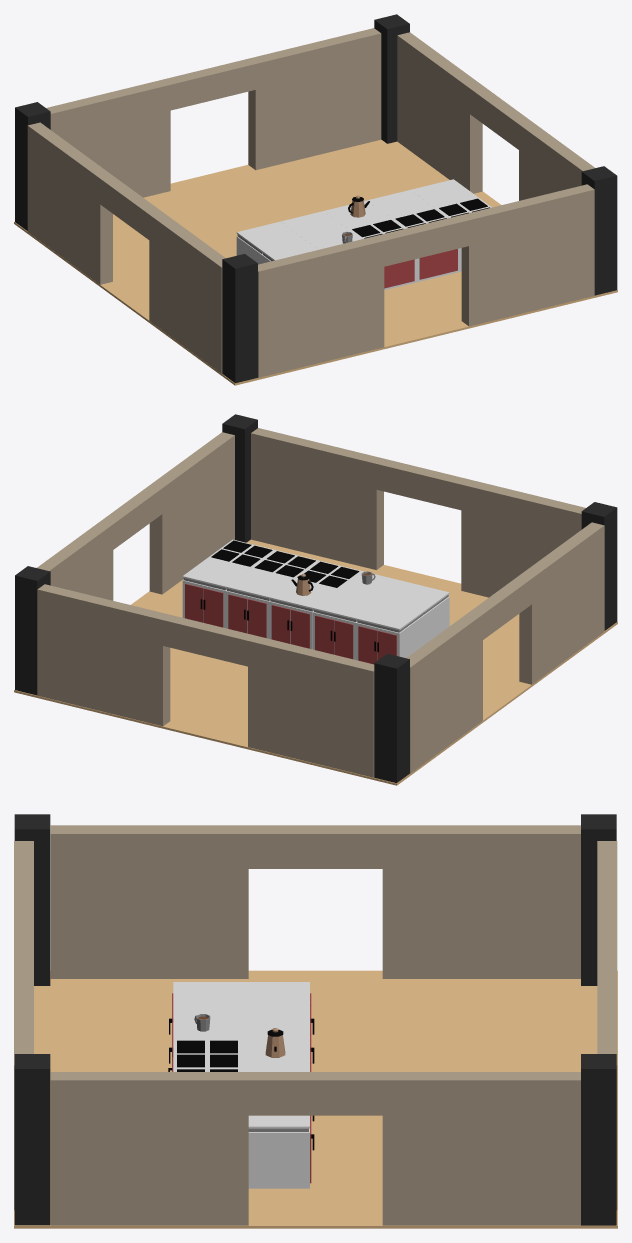
Rendered from kitchen room.fbx.
The picture shows the model from 3 angles, top to bottom: view 1: azimuth 30°, elevation 25°; view 2: azimuth 150°, elevation 25°; view 3: azimuth 270°, elevation 25°; orthographic projection. The views are drawn at different scales.
Parts seen in each view (by area): view 1: pCube16, obj_kitchenstove2, obj_kitchencounter3, obj_kitchenstove1, obj_kitchencounter7, obj_kitchencounter4, obj_kitchencounter6, obj_kitchencounter5, obj_kitchencounter2, obj_kitchenstove3, obj_kitchencounter1; view 2: pCube16, obj_kitchencounter3, obj_kitchencounter7, obj_kitchencounter6, obj_kitchencounter4, obj_kitchencounter5, obj_kitchencounter2, obj_kitchenstove2, obj_kitchenstove3, obj_kitchenstove1, obj_kitchencounter1; view 3: pCube16, obj_kitchencounter7, obj_kitchencounter3, obj_kitchencounter2, obj_kitchenstove1, obj_kitchencounter4, obj_kitchencounter1, obj_kitchencounter5.
Part boxes in pixels (left/top/right/bottom): pCube16: left=14, top=14, right=617, bottom=385; obj_kitchenstove2: left=392, top=208, right=460, bottom=282; obj_kitchencounter3: left=236, top=221, right=304, bottom=264; obj_kitchenstove1: left=349, top=219, right=416, bottom=290; obj_kitchencounter7: left=410, top=179, right=478, bottom=207; obj_kitchencounter4: left=280, top=211, right=347, bottom=239; obj_kitchencounter6: left=367, top=190, right=434, bottom=218; obj_kitchencounter5: left=324, top=200, right=391, bottom=229; obj_kitchencounter2: left=261, top=240, right=318, bottom=263; obj_kitchenstove3: left=435, top=197, right=491, bottom=271; obj_kitchencounter1: left=305, top=229, right=361, bottom=249; pCube16: left=14, top=414, right=617, bottom=785; obj_kitchencounter3: left=356, top=600, right=424, bottom=664; obj_kitchencounter7: left=182, top=558, right=250, bottom=628; obj_kitchencounter6: left=226, top=568, right=293, bottom=638; obj_kitchencounter4: left=313, top=589, right=380, bottom=659; obj_kitchencounter5: left=269, top=579, right=337, bottom=649; obj_kitchencounter2: left=381, top=582, right=449, bottom=644; obj_kitchenstove2: left=251, top=550, right=318, bottom=578; obj_kitchenstove3: left=208, top=539, right=275, bottom=568; obj_kitchenstove1: left=295, top=560, right=362, bottom=589; obj_kitchencounter1: left=338, top=571, right=405, bottom=599; pCube16: left=14, top=814, right=617, bottom=1228; obj_kitchencounter7: left=248, top=1115, right=314, bottom=1188; obj_kitchencounter3: left=241, top=982, right=314, bottom=1034; obj_kitchencounter2: left=169, top=982, right=241, bottom=1034; obj_kitchenstove1: left=168, top=1040, right=241, bottom=1071; obj_kitchencounter4: left=241, top=1011, right=314, bottom=1063; obj_kitchencounter1: left=169, top=1011, right=241, bottom=1071; obj_kitchencounter5: left=241, top=1040, right=311, bottom=1071.
Size of the model in its own units: 200 by 58.06 by 200.
